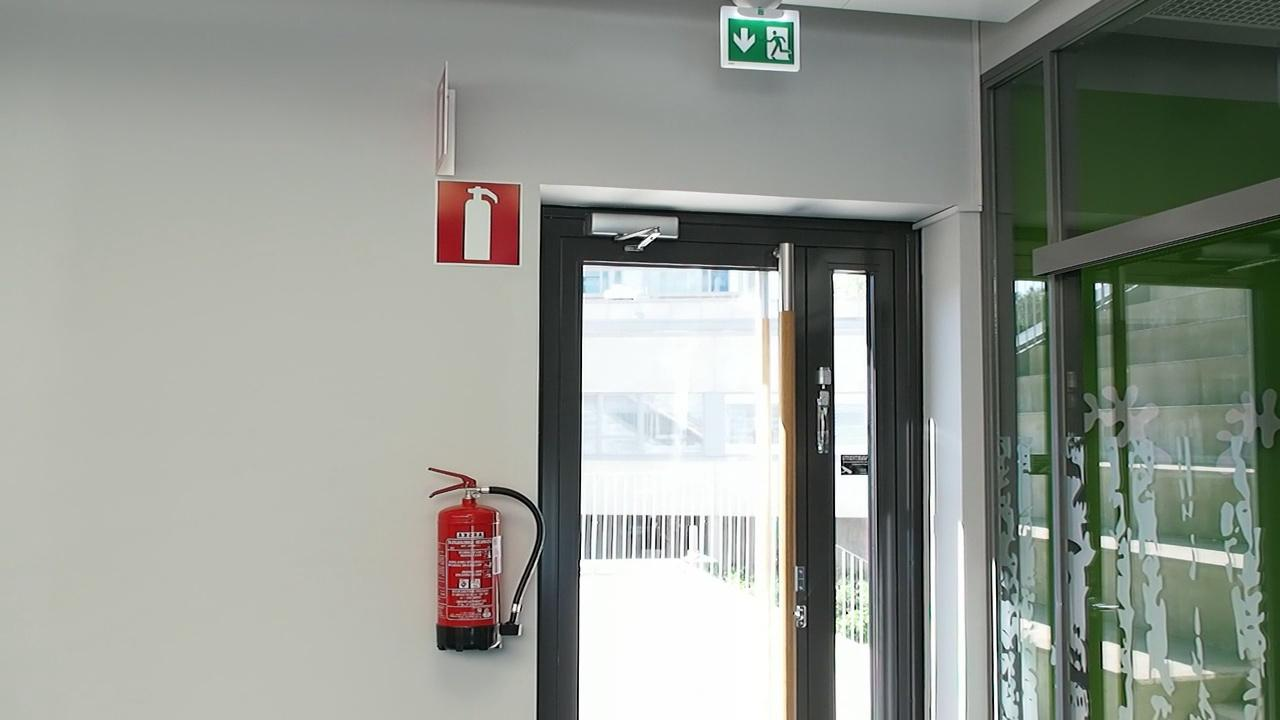exit: (724, 17, 802, 61)
fireextinguisher: (424, 454, 521, 656), (433, 176, 519, 266)
